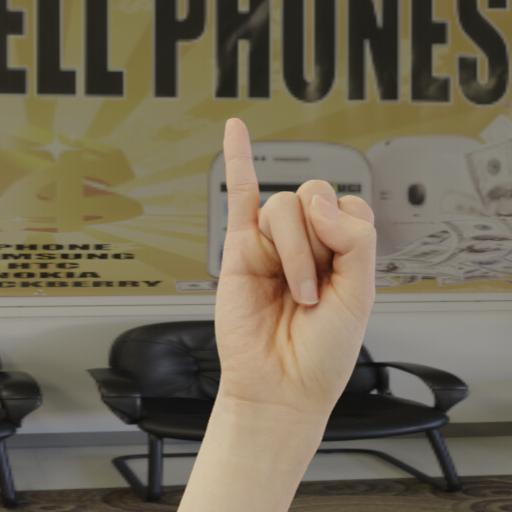I: (166, 101, 406, 512)
